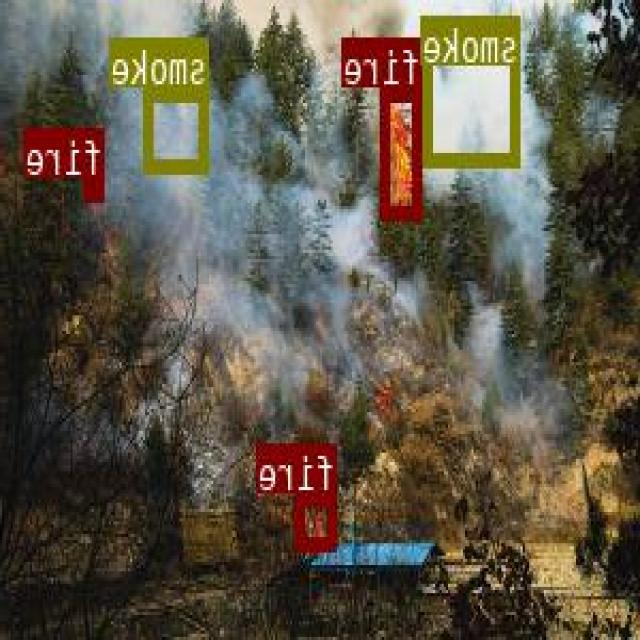fire: (383, 85, 423, 217), (297, 493, 338, 548), (86, 176, 105, 198)
smoke: (425, 14, 523, 165), (145, 86, 210, 169)
